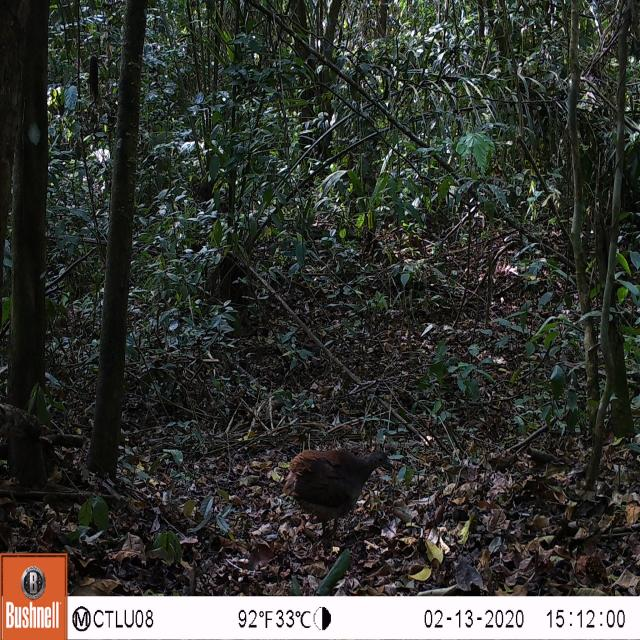Crypturellus: (274, 441, 395, 556)
